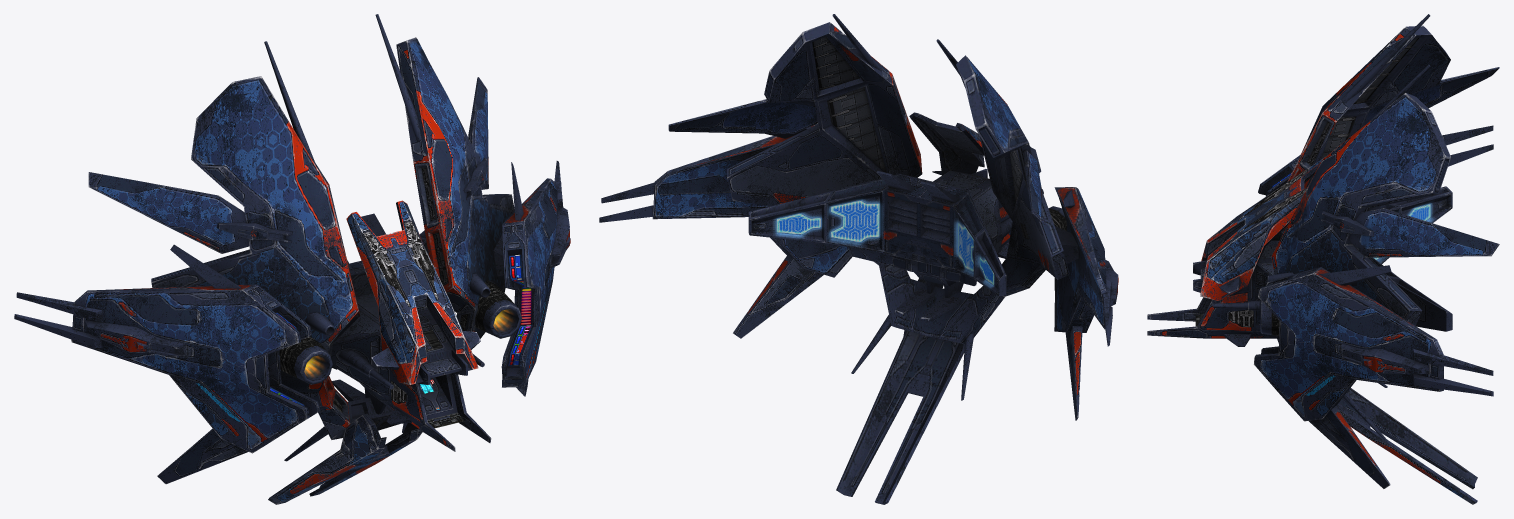
The model's file is Alien_Fighter-FBX.FBX.
The picture shows the model from 3 angles, left to right: view 1: azimuth 30°, elevation 25°; view 2: azimuth 150°, elevation 25°; view 3: azimuth 270°, elevation 25°; orthographic projection. The views are drawn at different scales.
Visible parts, largest first — view 1: Alien_Fighter; view 2: Alien_Fighter; view 3: Alien_Fighter.
Boxes of the visible parts, x1,y1,x2,y2 form: Alien_Fighter: (14,14,570,504); Alien_Fighter: (599,14,1118,504); Alien_Fighter: (1147,14,1499,504).
Bounding box in the file's own units: 2528 × 2162 × 1516.
